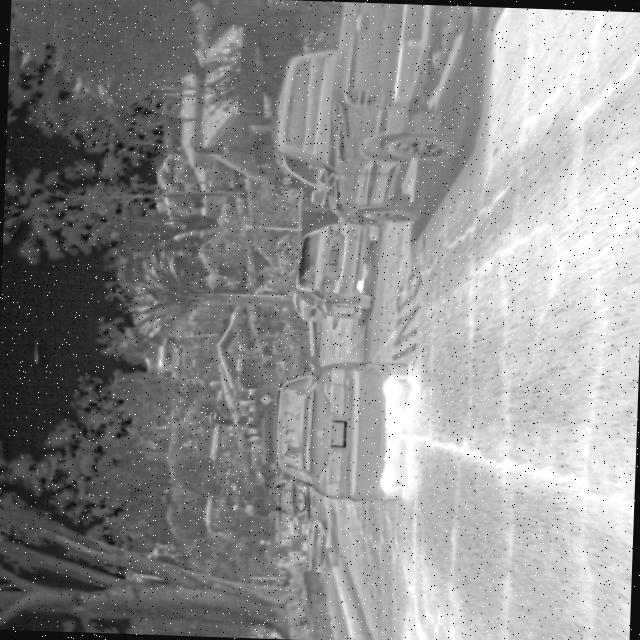Vehicle: (268, 0, 474, 227), (266, 353, 412, 504), (287, 218, 381, 325), (270, 472, 330, 525)
